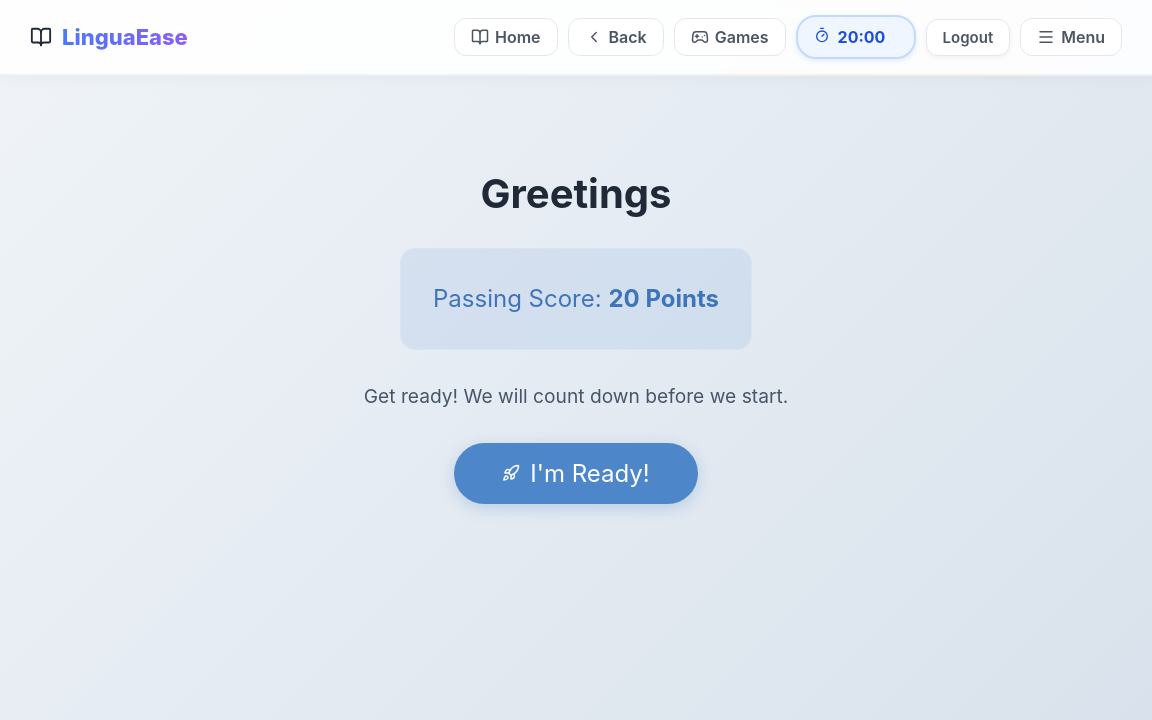
Test case: ADHDView Component - ADHD Learning Features › 2. Lesson Selection & Navigation › should enter lesson view when a lesson is started
The image size is (1152, 720).
Expected: the heading "Greetings" is shown, x1=480 y1=169 x2=672 y2=218
Click the button "I'm Ready!".
click(576, 474)  # box x1=454 y1=443 x2=698 y2=504
Wait 5000 ms
(page scrolled)
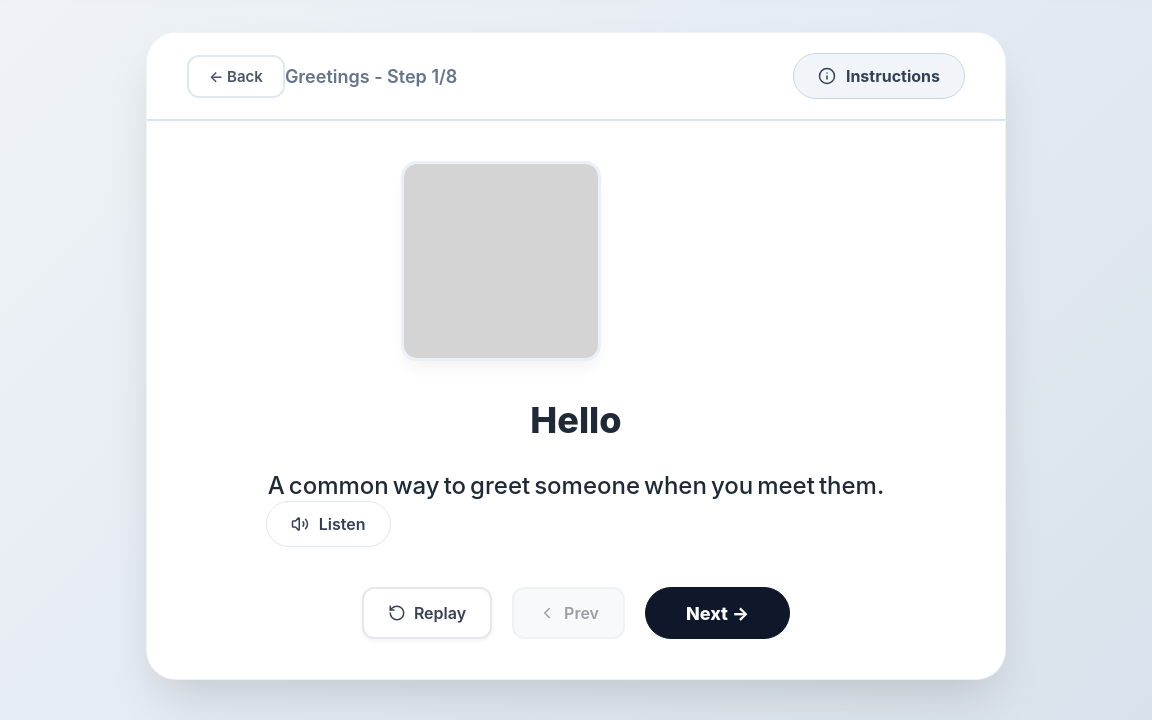
Now the text "Hello" is shown, box x1=528 y1=398 x2=624 y2=443
Now the button "Next →" is shown, box x1=645 y1=587 x2=790 y2=639
Now the button "Prev" is shown, box x1=512 y1=587 x2=625 y2=639
